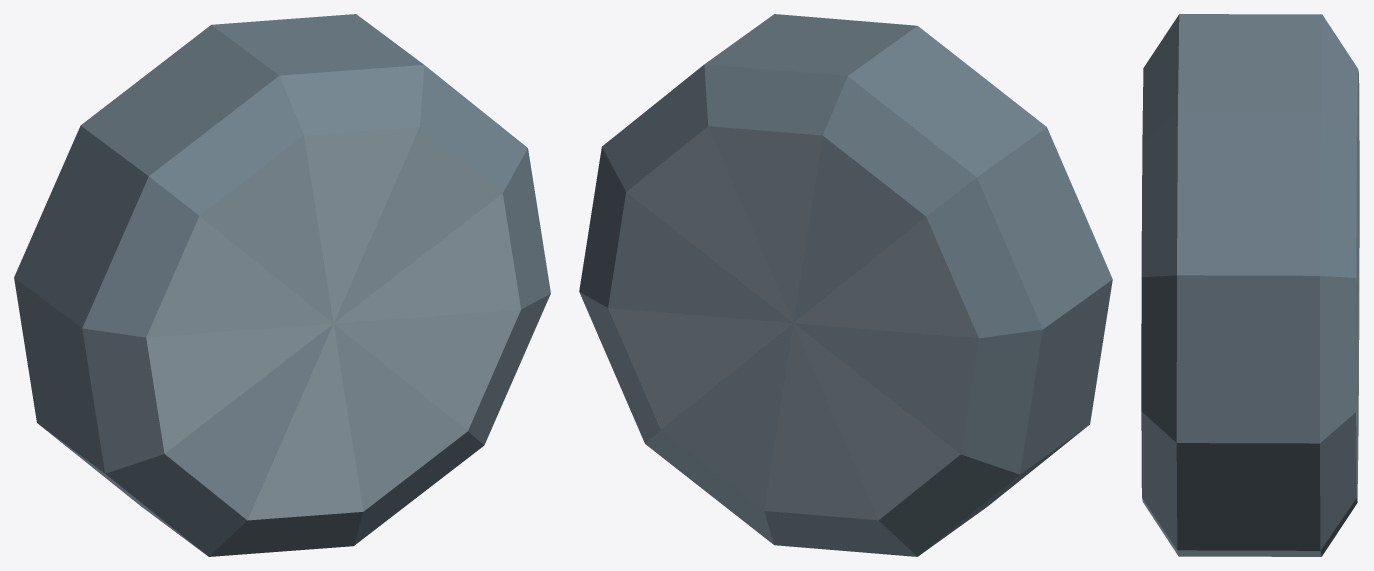
The model's file is schuwheel.obj.
The picture shows the model from 3 angles, left to right: view 1: azimuth 30°, elevation 25°; view 2: azimuth 150°, elevation 25°; view 3: azimuth 270°, elevation 25°; orthographic projection. The views are drawn at different scales.
Visible parts, largest first — view 1: cylinder.001; view 2: cylinder.001; view 3: cylinder.001.
Part boxes in pixels (x1,y1,x2,y2): cylinder.001: (14,14,550,556); cylinder.001: (579,14,1112,556); cylinder.001: (1141,14,1359,556).
Size of the model in its own units: 0.5366 by 0.5355 by 0.2096.
1 material, 1 textured.
